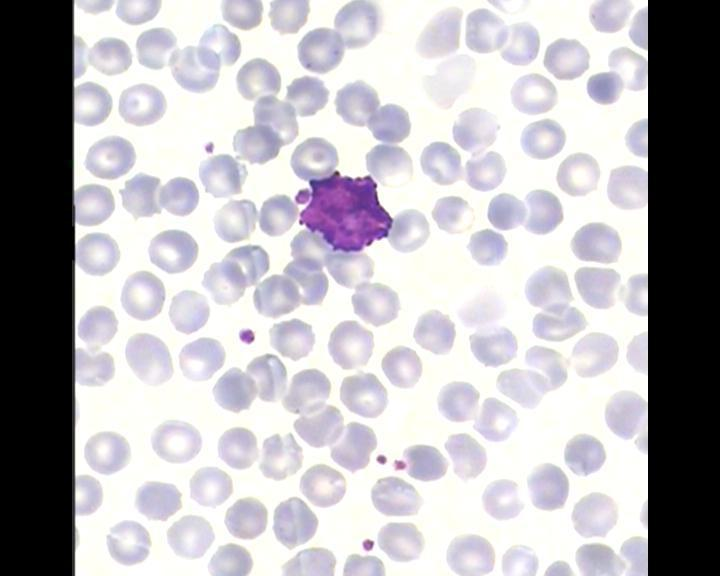baso: (288, 168, 398, 254)
